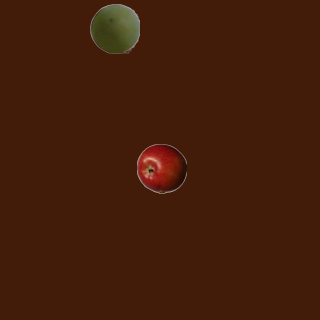Apple Braeburn: (136, 143, 186, 193)
Grape White 4: (89, 3, 139, 53)
